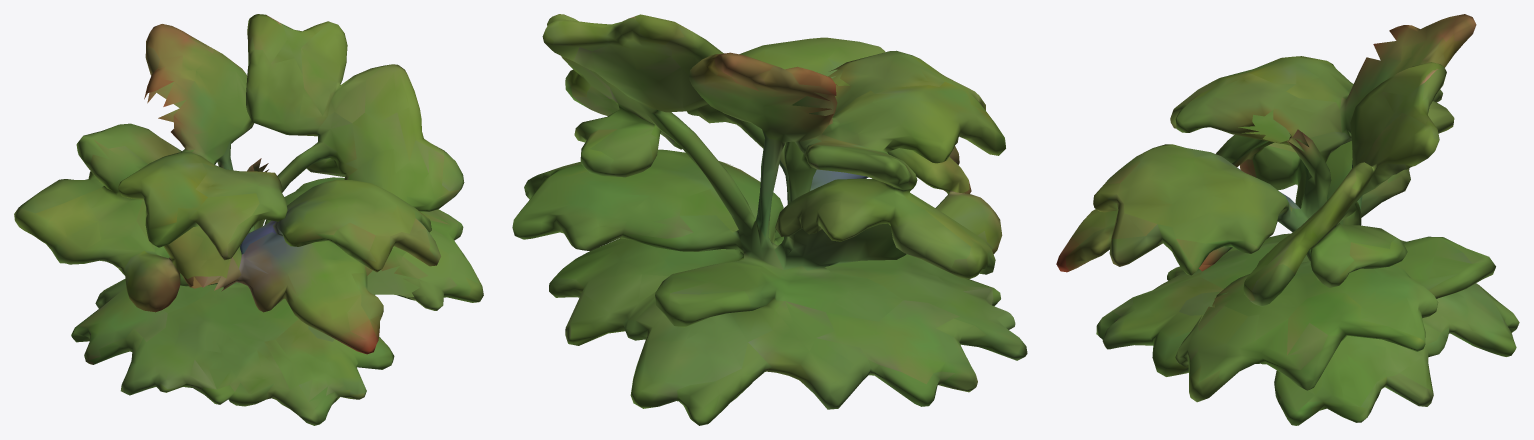
The model's file is bayas_agotadas.glb.
The picture shows the model from 3 angles, left to right: view 1: azimuth 30°, elevation 25°; view 2: azimuth 150°, elevation 25°; view 3: azimuth 270°, elevation 25°; orthographic projection. The views are drawn at different scales.
Visible parts, largest first — view 1: bayas; view 2: bayas; view 3: bayas.
Part boxes in pixels (x1,y1,x2,y2): bayas: (14,14,483,425); bayas: (512,14,1027,425); bayas: (1056,14,1519,425).
Bounding box in the file's own units: 1.32 × 0.9 × 1.17.
Materials: 1 (1 with a texture image).
